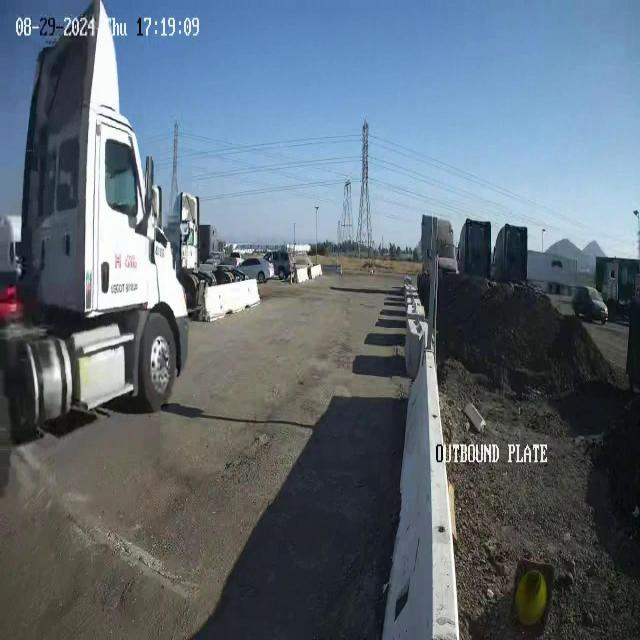TRUCK_IN: (1, 1, 190, 448)
